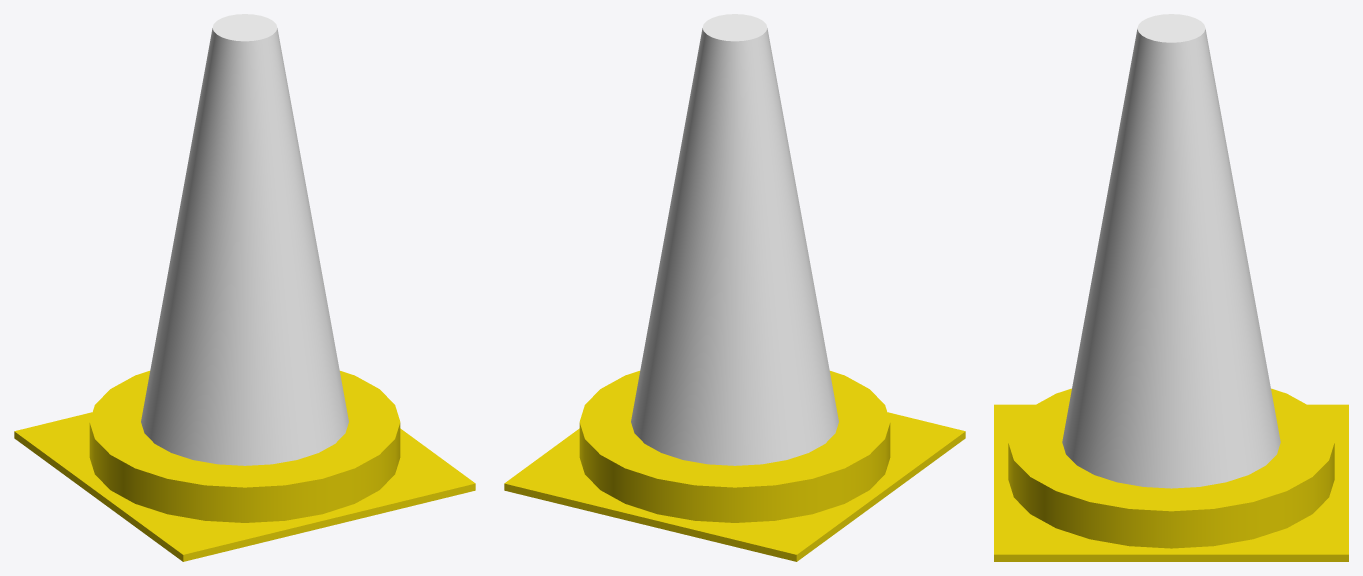
File: MESH_yellow_cone.glb
3 renders of one model, left to right at view 1: azimuth 30°, elevation 25°; view 2: azimuth 150°, elevation 25°; view 3: azimuth 270°, elevation 25°, orthographic. The views are drawn at different scales.
Visible parts, largest first — view 1: yellow_cone; view 2: yellow_cone; view 3: yellow_cone.
Part boxes in pixels (bbox=[...]): yellow_cone: bbox=[14, 14, 475, 561]; yellow_cone: bbox=[504, 14, 965, 561]; yellow_cone: bbox=[994, 14, 1348, 561].
Bounding box in the file's own units: 0.228 × 0.3252 × 0.228.
